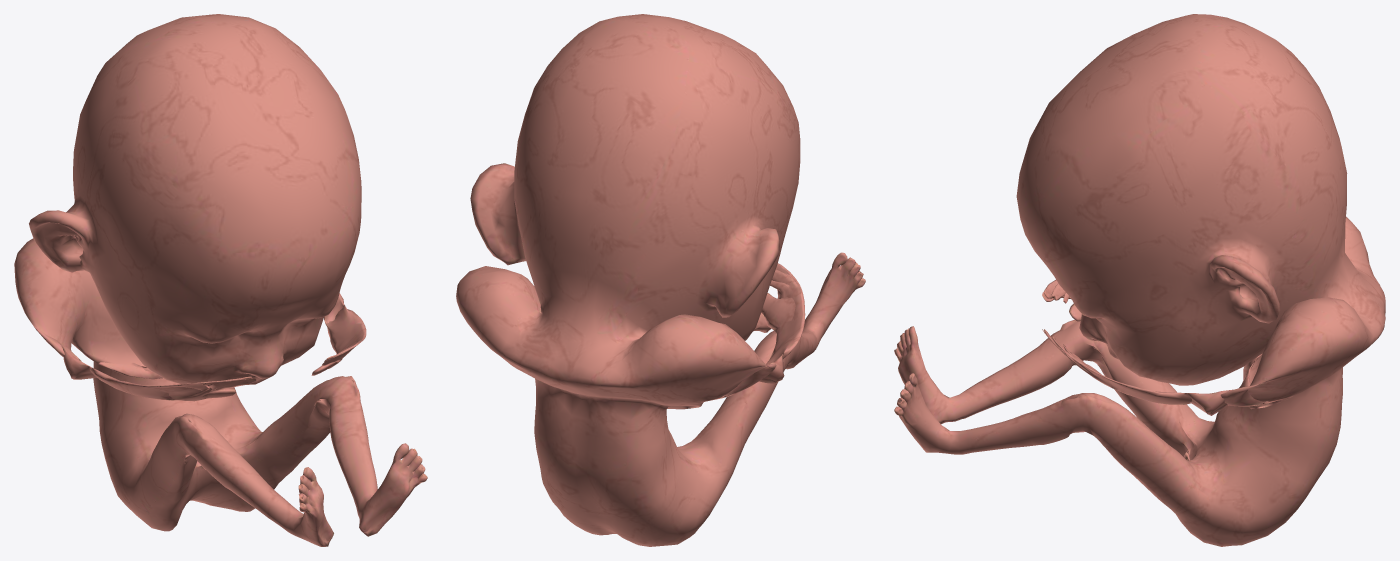
3 views of the same model, side by side, from view 1: azimuth 30°, elevation 25°; view 2: azimuth 150°, elevation 25°; view 3: azimuth 270°, elevation 25° (orthographic).
Parts seen in each view (by area): view 1: Baby; view 2: Baby; view 3: Baby.
Part boxes in pixels (x1,y1,x2,y2): Baby: (14,14,427,546); Baby: (456,14,865,546); Baby: (894,14,1385,546).
Bounding box in the file's own units: 0.0157 × 0.025 × 0.0223.
1 material, 1 textured.
